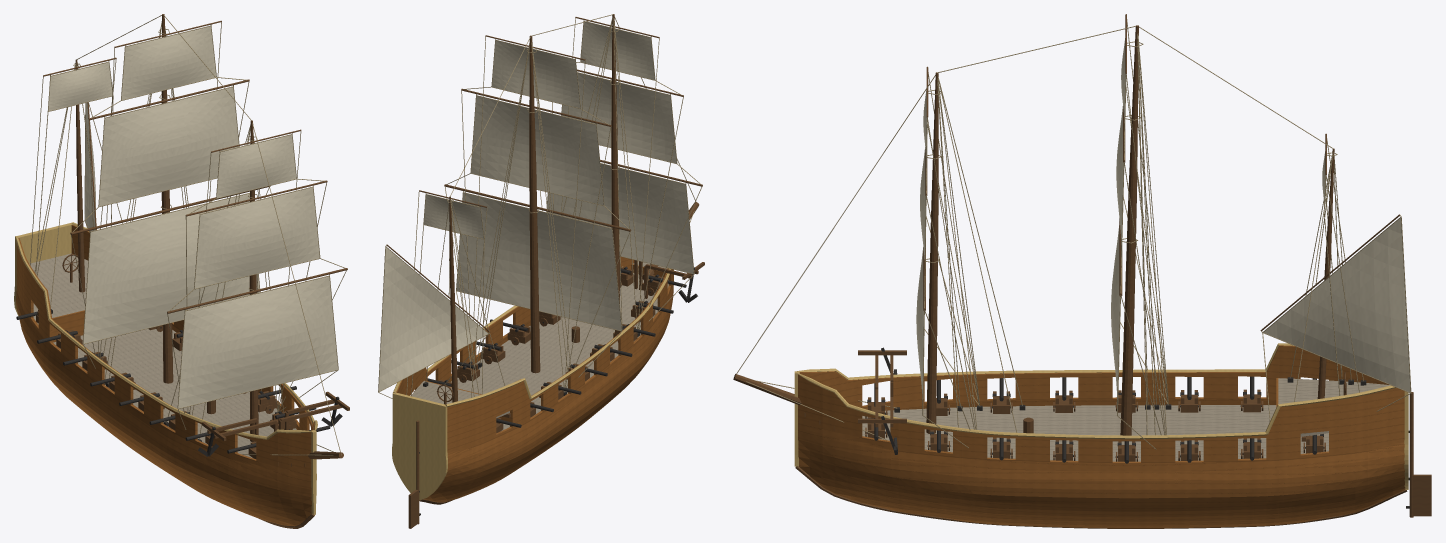
Rendered from ship.glb.
3 views of the same model, side by side, from view 1: azimuth 30°, elevation 25°; view 2: azimuth 150°, elevation 25°; view 3: azimuth 270°, elevation 25° (orthographic). The views are drawn at different scales.
Visible parts, largest first — view 1: hull_shell_starboard, fore_square_00, main_square_00, main_square_01, fore_square_01, main_deck, main_square_02, fore_square_02, castle_deck_0, mizzen_square_00, stern_closure, gunwale_starboard (+11 smaller); view 2: hull_shell_starboard, main_square_00, main_square_01, fore_square_00, mizzen_lateen_01, main_deck, fore_square_01, stern_closure, main_square_02, fore_square_02, main, hull_shell_port (+14 smaller); view 3: hull_shell_port, mizzen_lateen_01, hull_shell_starboard, main_deck, main, fore, gunwale_port, castle_deck_0, gunwale_starboard, keel, main_square_00, mizzen (+1 smaller).
Boxes of the visible parts, box(x1,y1,x2,y2) form: hull_shell_starboard: box(16, 238, 311, 526); fore_square_00: box(178, 276, 337, 408); main_square_00: box(83, 193, 259, 343); main_square_01: box(99, 87, 238, 206); fore_square_01: box(194, 187, 319, 288); main_deck: box(33, 303, 296, 457); main_square_02: box(121, 26, 216, 99); fore_square_02: box(217, 135, 296, 197); castle_deck_0: box(29, 253, 88, 317); mizzen_square_00: box(48, 62, 112, 111); stern_closure: box(14, 222, 72, 315); gunwale_starboard: box(15, 236, 312, 439); hull_shell_starboard: box(423, 268, 673, 502); main_square_00: box(456, 193, 621, 330); main_square_01: box(471, 96, 603, 205); fore_square_00: box(547, 164, 693, 273); mizzen_lateen_01: box(378, 247, 487, 391); main_deck: box(451, 273, 668, 430); fore_square_01: box(561, 73, 676, 163); stern_closure: box(392, 392, 447, 499); main_square_02: box(492, 40, 580, 108); fore_square_02: box(580, 22, 654, 79); main: box(529, 35, 540, 373); hull_shell_port: box(396, 256, 638, 395); hull_shell_port: box(798, 374, 1405, 528); mizzen_lateen_01: box(1263, 218, 1410, 392); hull_shell_starboard: box(799, 345, 1388, 410); main_deck: box(862, 405, 1328, 461); main: box(1120, 25, 1138, 435); fore: box(926, 72, 938, 433); gunwale_port: box(797, 373, 1396, 439); castle_deck_0: box(1278, 378, 1390, 436); gunwale_starboard: box(797, 343, 1293, 379); keel: box(795, 466, 1407, 528); main_square_00: box(1111, 225, 1120, 399); mizzen: box(1317, 148, 1334, 398).
Bounding box in the file's own units: 9.21 × 19.61 × 24.65.
7 materials, 7 textured.
